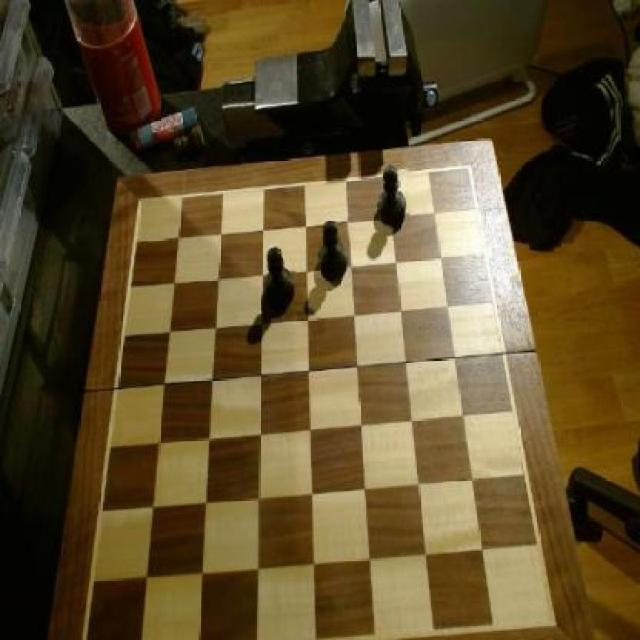black-knight: (375, 165, 411, 232), (264, 248, 298, 312), (318, 219, 352, 283)
